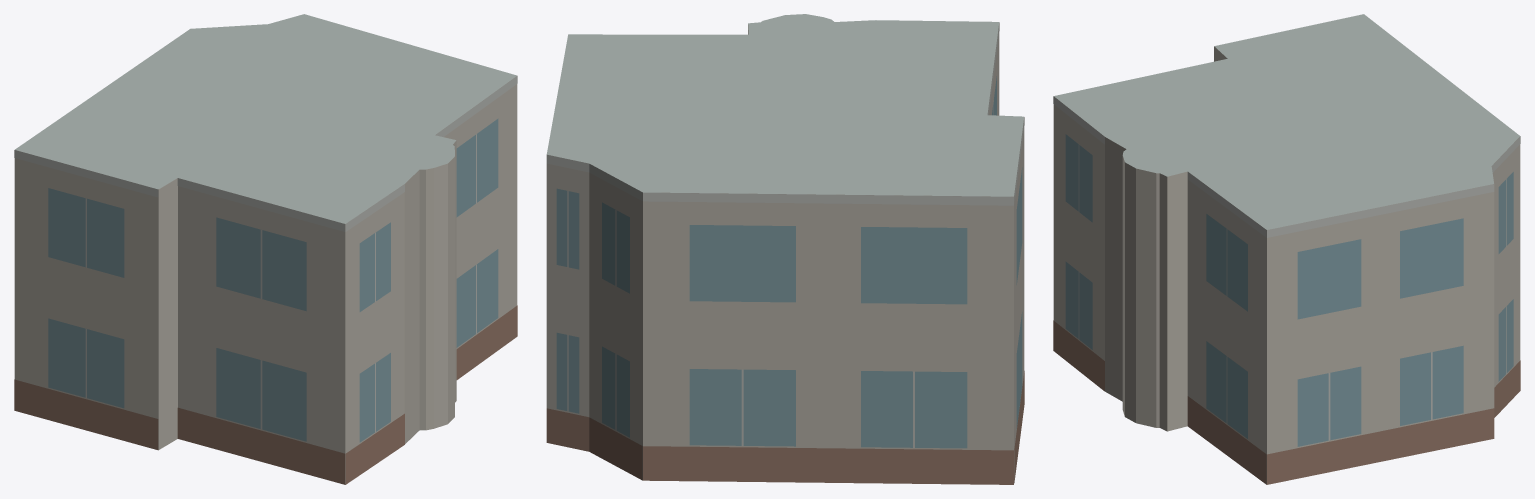
The model's file is survey-upis-32720877.glb.
3 renders of one model, left to right at view 1: azimuth 30°, elevation 25°; view 2: azimuth 150°, elevation 25°; view 3: azimuth 270°, elevation 25°, orthographic. The views are drawn at different scales.
Visible parts, largest first — view 1: survey-upis-32720877.tmp; view 2: survey-upis-32720877.tmp; view 3: survey-upis-32720877.tmp.
Boxes of the visible parts, bbox=[...] form: survey-upis-32720877.tmp: bbox=[14, 14, 517, 484]; survey-upis-32720877.tmp: bbox=[546, 14, 1024, 484]; survey-upis-32720877.tmp: bbox=[1053, 14, 1520, 484].
Size of the model in its own units: 14.29 by 7.85 by 13.04.
